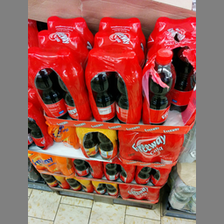soda: (28, 47, 67, 118), (141, 47, 174, 124), (83, 48, 117, 120), (56, 48, 87, 120), (115, 50, 142, 125), (170, 40, 195, 112), (76, 127, 99, 155)
